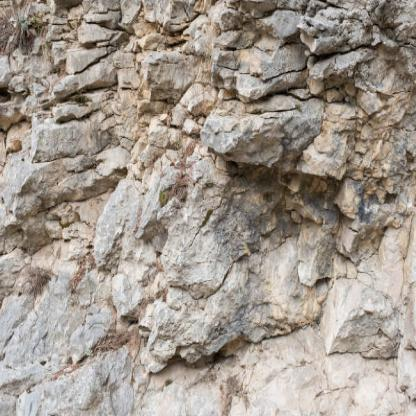Sedimentary_Limestone: (199, 97, 323, 168)
